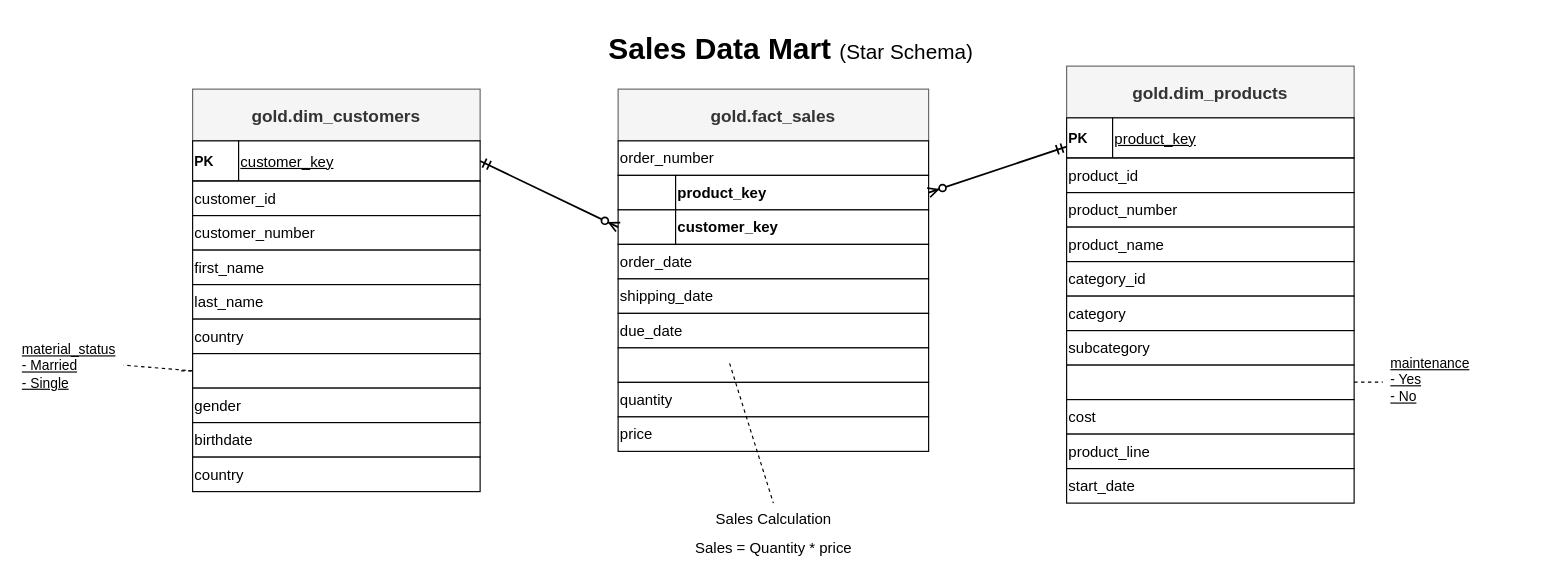
This 1557x580 diagram has some shape labels left out. Each missing label, with the box of its shape:
FK1: (617, 174, 676, 210)
FK2: (617, 209, 676, 244)
maintenance: (1065, 364, 1354, 400)
marital_status: (191, 352, 480, 388)
sales_amount: (617, 347, 929, 382)
